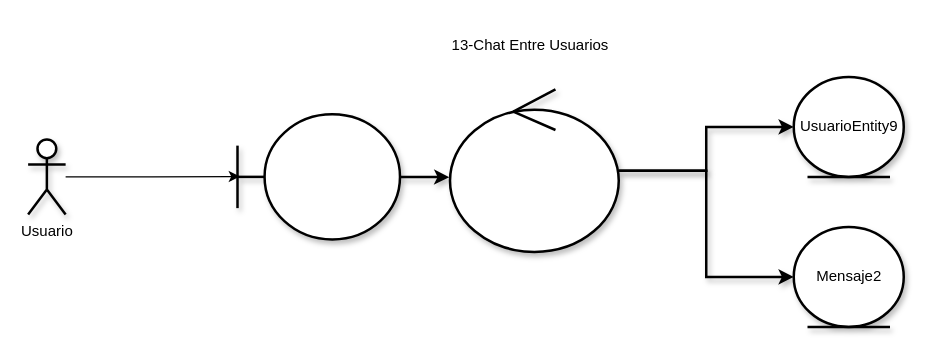
This 934x358 diagram has some shape labels left out. Here are the shapes that lost their labels. From the top down, the centre of each, then its label:
At (319,178): "ChatUi".
At (535,171): "ChatAction".
